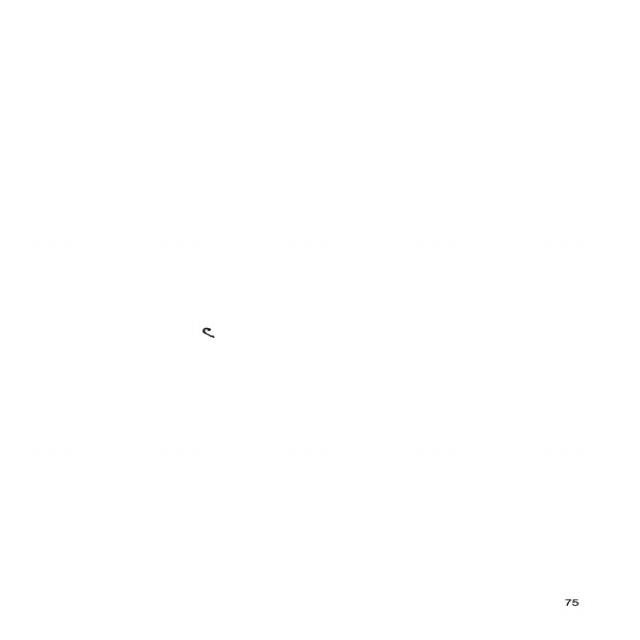2 -two-: (198, 324, 218, 341)
